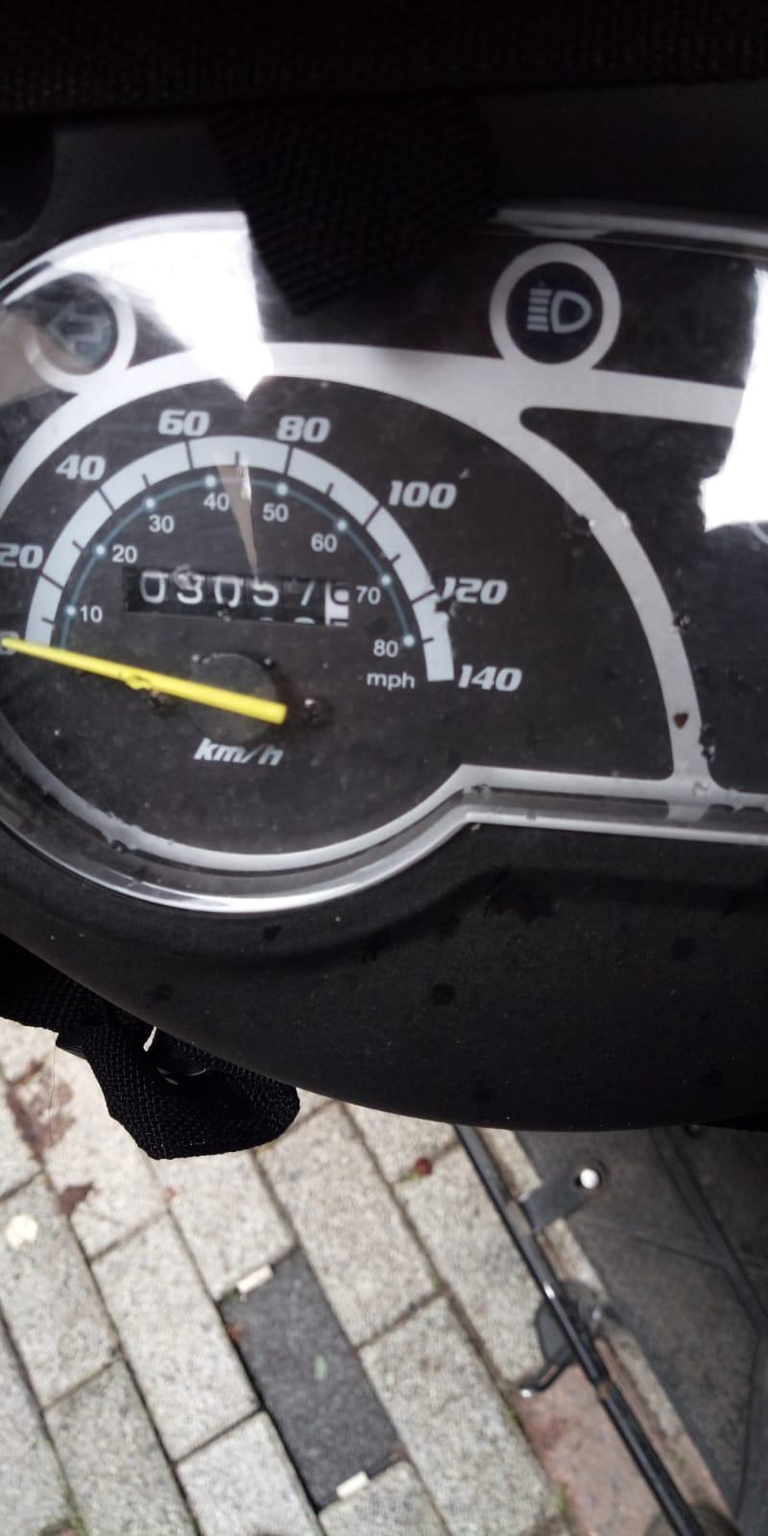0: (210, 568, 246, 612), (136, 564, 167, 607)
3: (176, 568, 204, 609)
5: (251, 569, 283, 609)
6: (330, 570, 355, 612)
7: (292, 570, 321, 607)
odometer: (123, 561, 358, 628)
